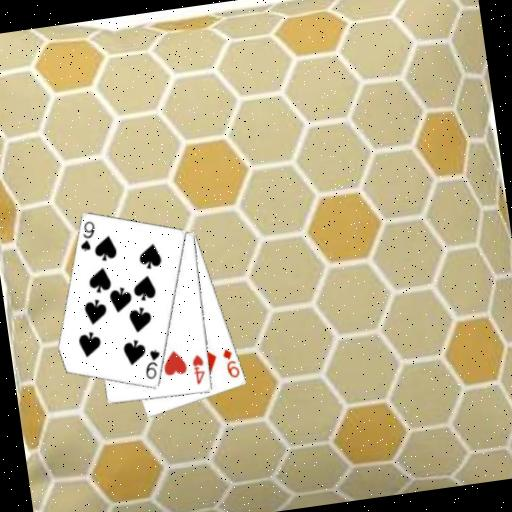4H: (188, 351, 208, 386)
9D: (219, 345, 242, 381)
9S: (140, 346, 165, 382), (75, 218, 100, 254)
